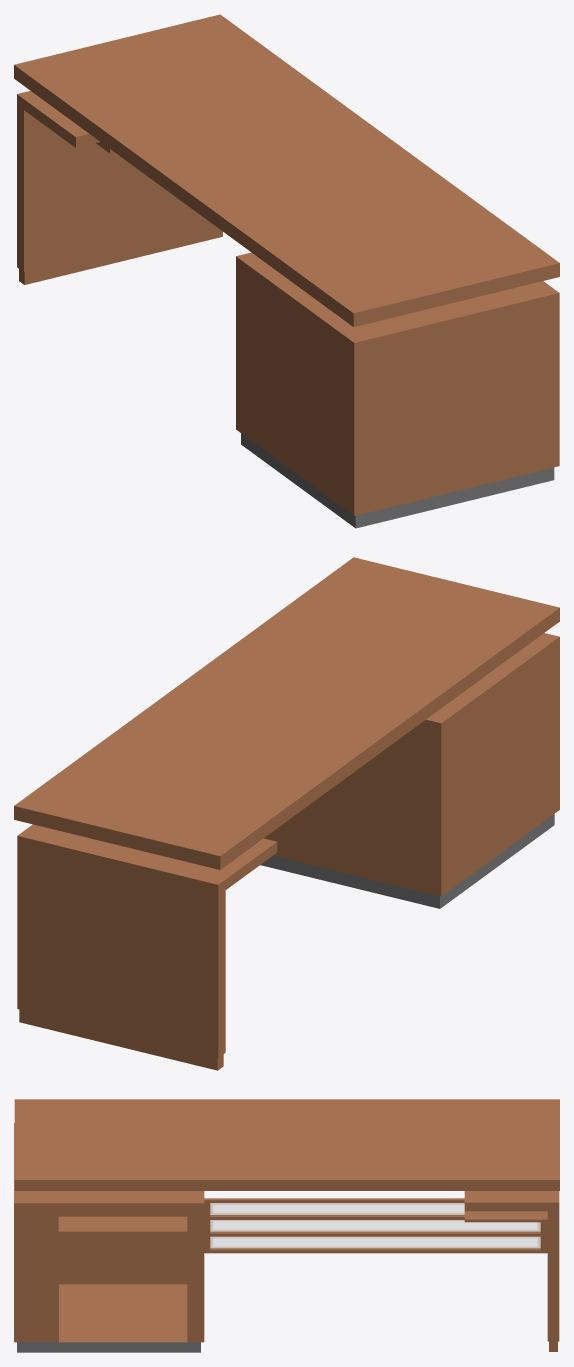
The model's file is Computer Desk.FBX.
The picture shows the model from 3 angles, top to bottom: view 1: azimuth 30°, elevation 25°; view 2: azimuth 150°, elevation 25°; view 3: azimuth 270°, elevation 25°; orthographic projection. The views are drawn at different scales.
Visible parts, largest first — view 1: node_id8, node_id18, node_id14, node_id20, node_id16; view 2: node_id8, node_id14, node_id18, node_id20, node_id16; view 3: node_id8, node_id18, node_id4, node_id6, node_id14, node_id20.
Part boxes in pixels (x1,y1,x2,y2): node_id8: [14, 14, 559, 326]; node_id18: [236, 252, 559, 515]; node_id14: [17, 91, 214, 272]; node_id20: [241, 433, 554, 528]; node_id16: [19, 226, 222, 284]; node_id8: [14, 557, 559, 869]; node_id14: [17, 824, 277, 1057]; node_id18: [264, 633, 559, 896]; node_id20: [260, 814, 554, 908]; node_id16: [19, 1009, 223, 1070]; node_id8: [14, 1099, 559, 1190]; node_id18: [14, 1123, 204, 1342]; node_id4: [210, 1203, 540, 1248]; node_id6: [204, 1198, 547, 1253]; node_id14: [464, 1191, 559, 1341]; node_id20: [17, 1342, 200, 1352].
Bounding box in the file's own units: 0.5089 × 0.512 × 1.45.
9 materials, 8 textured.
